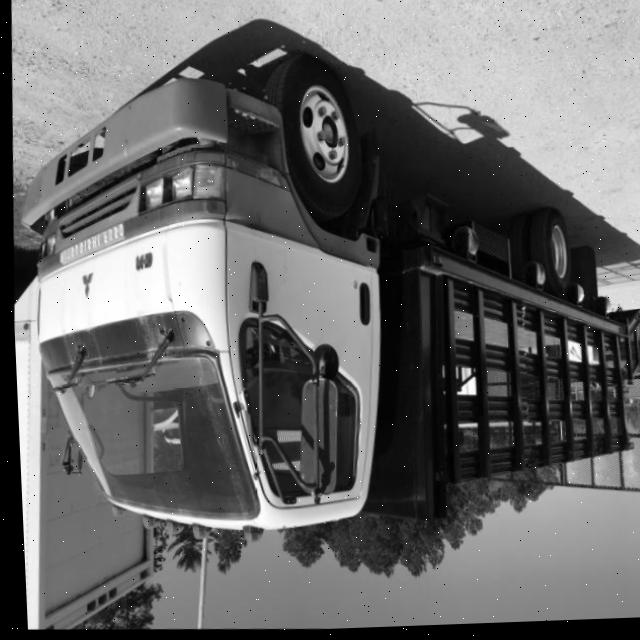truck: (3, 42, 433, 564)
